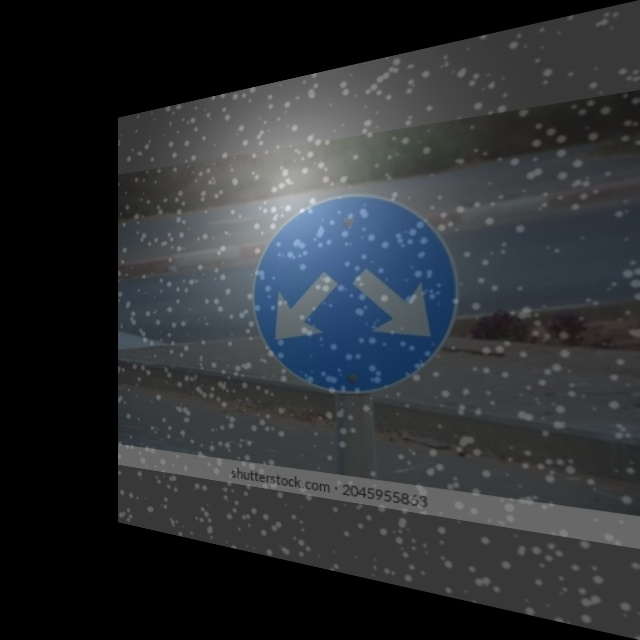Pass_Either_Side: (252, 182, 466, 408)
